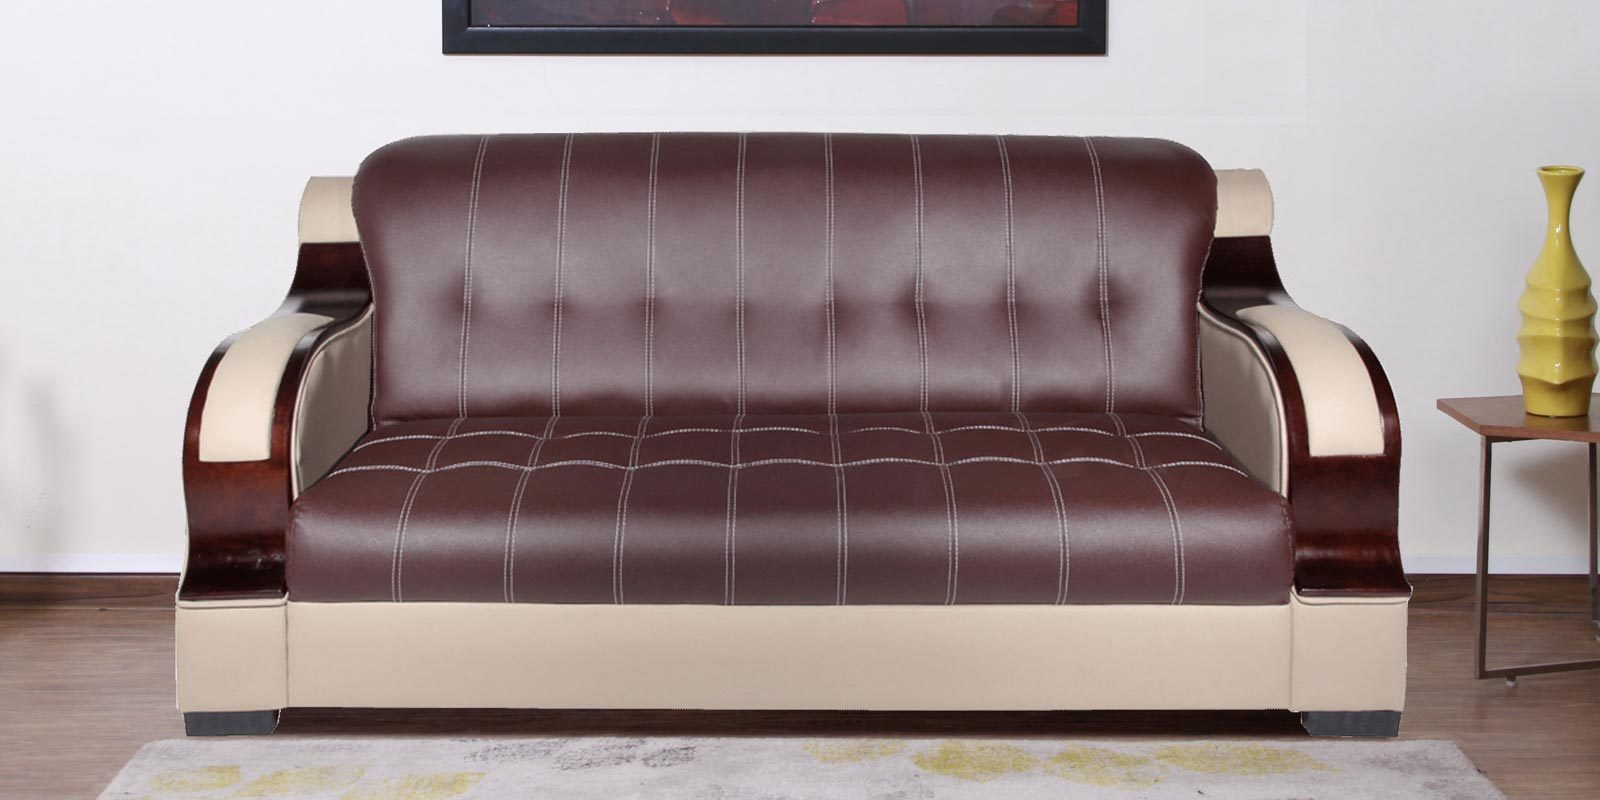Bella Three Seater Sofa in Brown Leatherette by Furniture Mind: (176, 126, 1426, 758)
